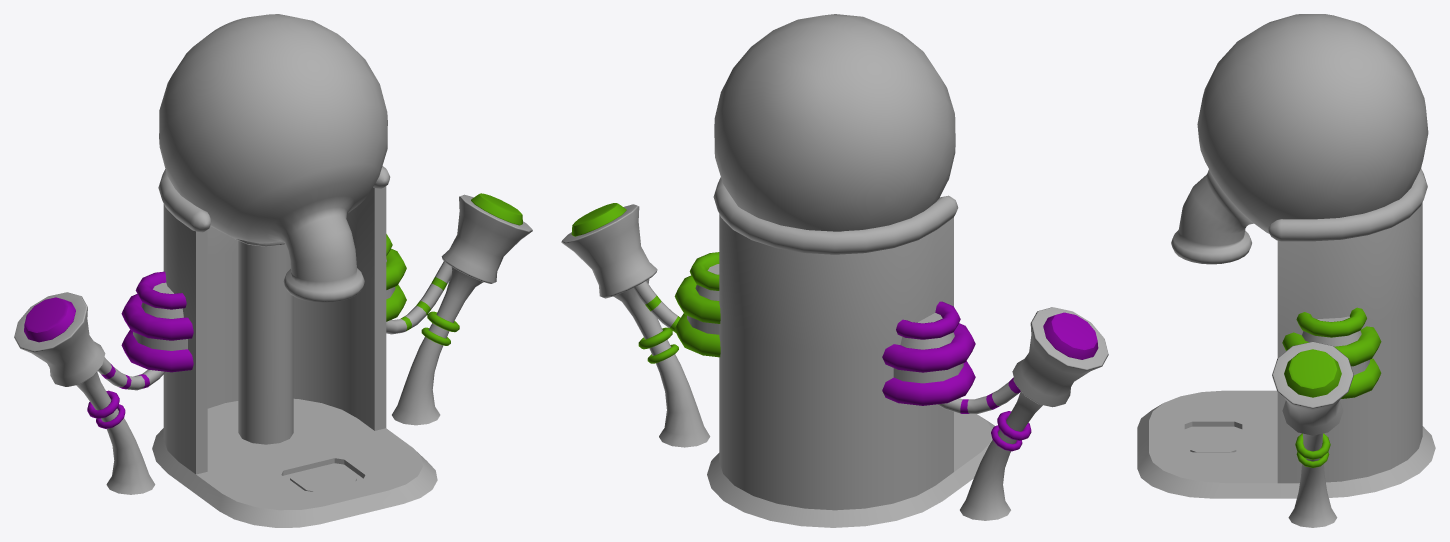
File: Env_Props_FlorpFiller_CW.fbx
3 views of the same model, side by side, from view 1: azimuth 30°, elevation 25°; view 2: azimuth 150°, elevation 25°; view 3: azimuth 270°, elevation 25° (orthographic). The views are drawn at different scales.
Visible parts, largest first — view 1: Props_Florp_Filler, Prop_Florp_Tank, Props_Florp_Button_Panel_R, Props_Florp_Button_Panel_L, Button_L, Props_Florp_Button_Cable_R, Props_Florp_Button_Cable_L, Button_R; view 2: Props_Florp_Filler, Prop_Florp_Tank, Props_Florp_Button_Panel_R, Props_Florp_Button_Panel_L, Button_L, Props_Florp_Button_Cable_L, Button_R, Props_Florp_Button_Cable_R; view 3: Props_Florp_Filler, Prop_Florp_Tank, Props_Florp_Button_Panel_R, Button_R.
Boxes of the visible parts, x1,y1,x2,y2 form: Props_Florp_Filler: (121,166,437,527); Prop_Florp_Tank: (159,14,387,302); Props_Florp_Button_Panel_R: (392,194,532,425); Props_Florp_Button_Panel_L: (14,292,155,494); Button_L: (24,297,75,342); Props_Florp_Button_Cable_R: (386,261,452,334); Props_Florp_Button_Cable_L: (98,357,165,390); Button_R: (471,193,522,225); Props_Florp_Filler: (674,177,994,527); Prop_Florp_Tank: (714,14,955,231); Props_Florp_Button_Panel_R: (561,204,710,447); Props_Florp_Button_Panel_L: (960,307,1108,520); Button_L: (1043,312,1098,359); Props_Florp_Button_Cable_L: (937,377,1020,413); Button_R: (571,203,626,236); Props_Florp_Button_Cable_R: (633,281,680,332); Props_Florp_Filler: (1137,168,1435,498); Prop_Florp_Tank: (1171,14,1428,264); Props_Florp_Button_Panel_R: (1272,341,1353,527); Button_R: (1284,349,1341,397).
Bounding box in the file's own units: 355 × 285 × 182.
